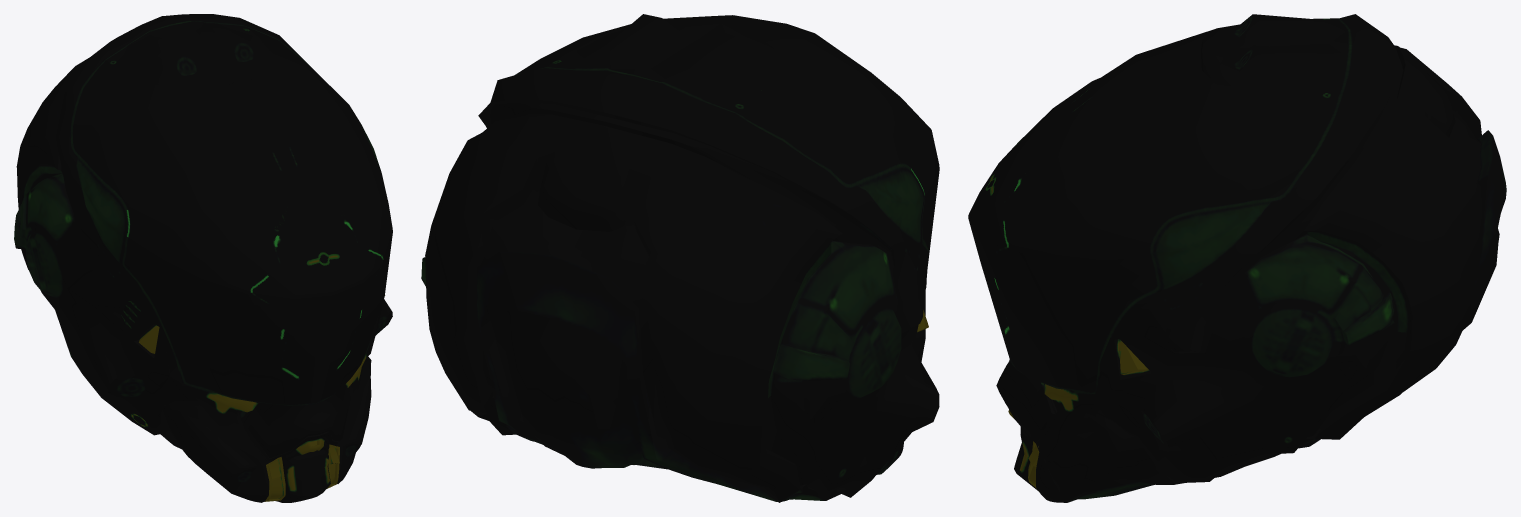
The model's file is helmet4.glb.
3 views of the same model, side by side, from view 1: azimuth 30°, elevation 25°; view 2: azimuth 150°, elevation 25°; view 3: azimuth 270°, elevation 25° (orthographic). The views are drawn at different scales.
Visible parts, largest first — view 1: Plane.001, Plane.023; view 2: Plane.023, Plane.001; view 3: Plane.023, Plane.001.
Boxes of the visible parts, x1=… form: Plane.001: x1=71, y1=25, x2=392, y2=404; Plane.023: x1=14, y1=14, x2=392, y2=502; Plane.023: x1=421, y1=14, x2=939, y2=502; Plane.001: x1=515, y1=15, x2=939, y2=265; Plane.023: x1=980, y1=14, x2=1506, y2=502; Plane.001: x1=968, y1=18, x2=1341, y2=394.
Bounding box in the file's own units: 0.4518 × 0.5285 × 0.5705.
Materials: 2 (2 with a texture image).
